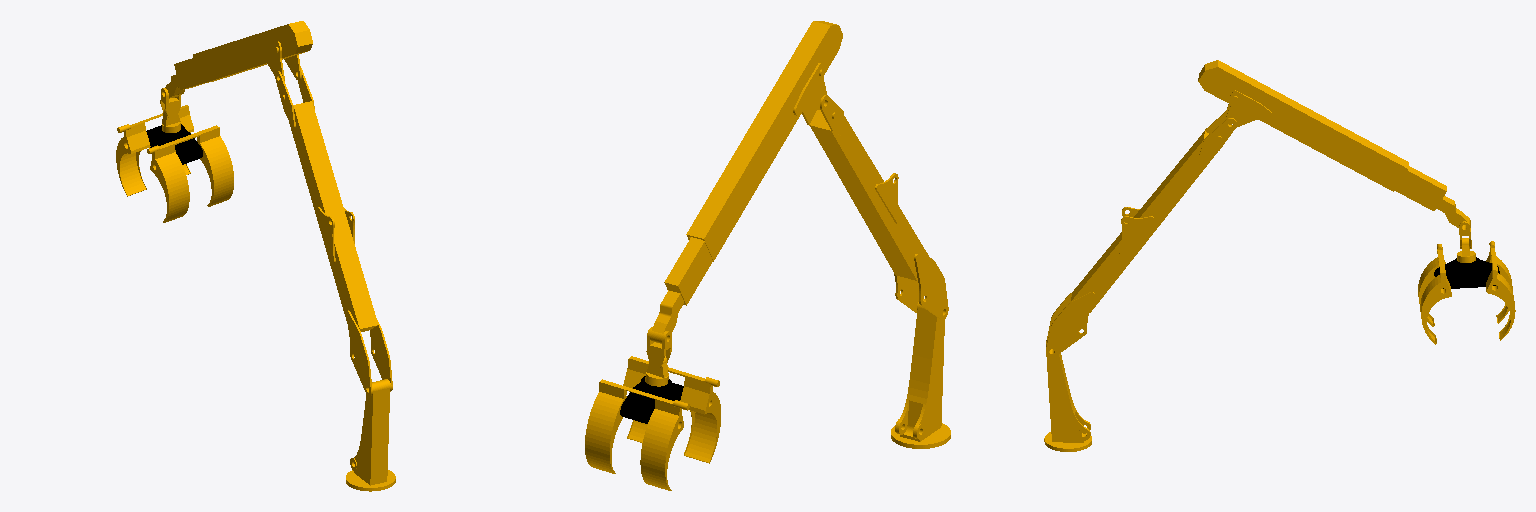
The robot description file, URDF, robot "onshape":
<robot name="onshape">
<link name="base_link">
<visual>
<origin xyz="0 0 0" rpy="0 -0 0" />
<geometry>
<mesh filename="meshes/base_link.stl"/>
</geometry>
<material name="base_link_material">
<color rgba="0.19607843137254901689 0.43921568627450979783 0.078431372549019606755 1.0"/>
</material>
</visual>
<collision>
<origin xyz="0 0 0" rpy="0 -0 0" />
<geometry>
<mesh filename="meshes/base_link.stl"/>
</geometry>
</collision>
<inertial>
<origin xyz="-0.0038912060641234833512 0.94417835578650055606 0.70159558953869916031" rpy="0 0 0"/>
<mass value="1499.9999999999997726" />
<inertia ixx="3977.7105991589519363" ixy="2.4359446062356151508"  ixz="-0.23812520616688842567" iyy="879.4116239375675832" iyz="164.77461570684363323" izz="4496.6843394325978807" />
</inertial>
</link>

<link name="cranepillar">
<visual>
<origin xyz="6.9388939039072283776e-18 -1.9750000000000000888 1.8000000000000002665" rpy="-3.141592653589793116 -0 -3.7073143176218130391e-18" />
<geometry>
<mesh filename="meshes/cranepillar.stl"/>
</geometry>
<material name="cranepillar_material">
<color rgba="0.98039215686274505668 0.71372549019607844922 0.0039215686274509803377 1.0"/>
</material>
</visual>
<collision>
<origin xyz="6.9388939039072283776e-18 -1.9750000000000000888 1.8000000000000002665" rpy="-3.141592653589793116 -0 -3.7073143176218130391e-18" />
<geometry>
<mesh filename="meshes/cranepillar.stl"/>
</geometry>
</collision>
<inertial>
<origin xyz="6.5177737211837026014e-08 0.06999606518921241971 -0.40871146584034473426" rpy="0 0 0"/>
<mass value="158.26819918446108204" />
<inertia ixx="20.304254714215378641" ixy="3.9605699780622984006e-06"  ixz="-8.1723973262745999604e-07" iyy="19.504224403354101014" iyz="3.0542376148195296004" izz="2.5286420750194498197" />
</inertial>
</link>

<link name="cranearm">
<visual>
<origin xyz="2.1631691341646703819 2.9071014878752601263 0.10714734974687092905" rpy="1.570796326794896558 1.5707963267948961139 0" />
<geometry>
<mesh filename="meshes/cranearm.stl"/>
</geometry>
<material name="cranearm_material">
<color rgba="0.98039215686274505668 0.71372549019607844922 0.0039215686274509803377 1.0"/>
</material>
</visual>
<collision>
<origin xyz="2.1631691341646703819 2.9071014878752601263 0.10714734974687092905" rpy="1.570796326794896558 1.5707963267948961139 0" />
<geometry>
<mesh filename="meshes/cranearm.stl"/>
</geometry>
</collision>
<inertial>
<origin xyz="1.4710758781849477828 -0.83447497357367250714 0.11000015269846498411" rpy="0 0 0"/>
<mass value="171.36007144775490474" />
<inertia ixx="31.17440380926048249" ixy="53.72154790670983715"  ixz="-2.3471090234412882384e-06" iyy="103.78227622883765946" iyz="2.9687502947118911292e-06" izz="132.11938151457616186" />
</inertial>
</link>

<link name="extension_arm">
<visual>
<origin xyz="-0.088447174187276544899 -5.3839193952782471442 -0.067147349746820766958" rpy="-1.570796326794896558 -1.5707963267948796826 0" />
<geometry>
<mesh filename="meshes/extension_arm.stl"/>
</geometry>
<material name="extension_arm_material">
<color rgba="0.98039215686274505668 0.71372549019607844922 0.0039215686274509803377 1.0"/>
</material>
</visual>
<collision>
<origin xyz="-0.088447174187276544899 -5.3839193952782471442 -0.067147349746820766958" rpy="-1.570796326794896558 -1.5707963267948796826 0" />
<geometry>
<mesh filename="meshes/extension_arm.stl"/>
</geometry>
</collision>
<inertial>
<origin xyz="0.71945517939019365539 0.12523230339913293818 -0.10999999999999976463" rpy="0 0 0"/>
<mass value="132.70502483158338691" />
<inertia ixx="8.0714226307109147029" ixy="18.156198033664058045"  ixz="1.0923177693777059461e-14" iyy="63.582628627999874027" iyz="2.9882967155716166814e-14" izz="70.212133412085975692" />
</inertial>
</link>

<link name="extension">
<visual>
<origin xyz="0.097852650417088363199 5.3847096770111537722 1.5927817167852036384" rpy="1.8759826062349289622 -5.9218368801835195858e-15 2.5089115897672376043e-18" />
<geometry>
<mesh filename="meshes/extension.stl"/>
</geometry>
<material name="extension_material">
<color rgba="0.98039215686274505668 0.71372549019607844922 0.0039215686274509803377 1.0"/>
</material>
</visual>
<collision>
<origin xyz="0.097852650417088363199 5.3847096770111537722 1.5927817167852036384" rpy="1.8759826062349289622 -5.9218368801835195858e-15 2.5089115897672376043e-18" />
<geometry>
<mesh filename="meshes/extension.stl"/>
</geometry>
</collision>
<inertial>
<origin xyz="0.055000000489328113029 -0.11308667092188251502 1.1835917326395082316" rpy="0 0 0"/>
<mass value="74.483829935135773326" />
<inertia ixx="35.990982829721382075" ixy="2.8883683342325816887e-10"  ixz="4.533294245971143494e-09" iyy="35.493371181524146607" iyz="-0.96498947282822022942" izz="0.92591432257180250609" />
</inertial>
</link>

<link name="intermediatehookjnt">
<visual>
<origin xyz="1.1629408158115603911 -1.6924602990154093973 0.05999999999999999778" rpy="-1.570796326794896558 -1.570796326794896558 0" />
<geometry>
<mesh filename="meshes/intermediatehookjnt.stl"/>
</geometry>
<material name="intermediatehookjnt_material">
<color rgba="0.98039215686274505668 0.71372549019607844922 0.0039215686274509803377 1.0"/>
</material>
</visual>
<collision>
<origin xyz="1.1629408158115603911 -1.6924602990154093973 0.05999999999999999778" rpy="-1.570796326794896558 -1.570796326794896558 0" />
<geometry>
<mesh filename="meshes/intermediatehookjnt.stl"/>
</geometry>
</collision>
<inertial>
<origin xyz="7.2130032402271055899e-08 -0.12159167084693889294 0.059999999999999949207" rpy="0 0 0"/>
<mass value="6.6927523972674238806" />
<inertia ixx="0.072021619002840306378" ixy="2.6246446781981169744e-08"  ixz="-2.9497402831450690525e-19" iyy="0.032102433616367886948" iyz="-1.3138598449676532376e-21" izz="0.063250708421585463692" />
</inertial>
</link>

<link name="grapplehook">
<visual>
<origin xyz="0 1.4599999999999995204 1.1229409087543595902" rpy="1.570796326794896558 3.9031278209478159624e-18 -1.3877787807814456755e-17" />
<geometry>
<mesh filename="meshes/grapplehook.stl"/>
</geometry>
<material name="grapplehook_material">
<color rgba="0.98039215686274505668 0.71372549019607844922 0.0039215686274509803377 1.0"/>
</material>
</visual>
<collision>
<origin xyz="0 1.4599999999999995204 1.1229409087543595902" rpy="1.570796326794896558 3.9031278209478159624e-18 -1.3877787807814456755e-17" />
<geometry>
<mesh filename="meshes/grapplehook.stl"/>
</geometry>
</collision>
<inertial>
<origin xyz="-1.8348013932342325104e-17 0.11889435836171968752 -0.040000000000000257572" rpy="0 0 0"/>
<mass value="11.69137300060207707" />
<inertia ixx="0.071283575399172724452" ixy="-3.6772265021772523759e-19"  ixz="-1.1033426387914104454e-19" iyy="0.044786365951232906535" iyz="5.3726285580160428126e-19" izz="0.077427737510019634115" />
</inertial>
</link>

<link name="grapplebody">
<visual>
<origin xyz="0.0028526502531289743558 -4.2941082490610078537 0.31050192853763558531" rpy="-0.83507352101469434213 8.7430063189231077558e-16 7.8062556418956319249e-18" />
<geometry>
<mesh filename="meshes/grapplebody.stl"/>
</geometry>
<material name="grapplebody_material">
<color rgba="0 0 0 1.0"/>
</material>
</visual>
<collision>
<origin xyz="0.0028526502531289743558 -4.2941082490610078537 0.31050192853763558531" rpy="-0.83507352101469434213 8.7430063189231077558e-16 7.8062556418956319249e-18" />
<geometry>
<mesh filename="meshes/grapplebody.stl"/>
</geometry>
</collision>
<inertial>
<origin xyz="-0.0046191934757202676026 -8.4376949871511897072e-15 -0.14258886664155778767" rpy="0 0 0"/>
<mass value="100.00000000000024158" />
<inertia ixx="2.2032827057151176398" ixy="3.0106125925577487124e-14"  ixz="-0.014403165349775932935" iyy="5.1544932520305444257" iyz="-1.6875389974302379414e-14" izz="5.922980580194753486" />
</inertial>
</link>

<link name="grappler">
<visual>
<origin xyz="0.32285265025312526177 -3.400511222977983028 -3.1245452734591512289" rpy="0.00036507366005568290049 4.3107878378023666157e-16 0" />
<geometry>
<mesh filename="meshes/grappler.stl"/>
</geometry>
<material name="grappler_material">
<color rgba="0.98039215686274505668 0.71372549019607844922 0.0039215686274509803377 1.0"/>
</material>
</visual>
<collision>
<origin xyz="0.32285265025312526177 -3.400511222977983028 -3.1245452734591512289" rpy="0.00036507366005568290049 4.3107878378023666157e-16 0" />
<geometry>
<mesh filename="meshes/grappler.stl"/>
</geometry>
</collision>
<inertial>
<origin xyz="-0.09470528406181727421 0.096639041820777996095 0.15598163605192150172" rpy="0 0 0"/>
<mass value="40.000000000000156319" />
<inertia ixx="5.3423877759080875549" ixy="0.72179632350094391491"  ixz="-0.025060421574980885212" iyy="3.7878510405007674855" iyz="0.073688762114945488557" izz="2.5553459620399516794" />
</inertial>
</link>

<joint name="Revolute 7" type="revolute">
<origin xyz="-0.2799999999999998046 -0.14999999999999880096 -0.17376999257947023381" rpy="-1.570796326794896558 -0.01738299423656019041 2.1340322859880885858e-15" />
<parent link="grapplebody" />
<child link="grappler" />
<axis xyz="0 0 1"/>
<limit effort="1" velocity="20" />
<joint_properties friction="0.0"/>
</joint>

<link name="grapplel">
<visual>
<origin xyz="-0.23714734974687301516 3.4005112229779799193 3.4295452734591544974" rpy="-3.1412275799297373347 -4.354155924701785807e-16 0" />
<geometry>
<mesh filename="meshes/grapplel.stl"/>
</geometry>
<material name="grapplel_material">
<color rgba="0.98039215686274505668 0.71372549019607844922 0.0039215686274509803377 1.0"/>
</material>
</visual>
<collision>
<origin xyz="-0.23714734974687301516 3.4005112229779799193 3.4295452734591544974" rpy="-3.1412275799297373347 -4.354155924701785807e-16 0" />
<geometry>
<mesh filename="meshes/grapplel.stl"/>
</geometry>
</collision>
<inertial>
<origin xyz="0.092881446788631361056 -0.092413330464415827104 0.14248893299358122988" rpy="0 0 0"/>
<mass value="39.999999999999864997" />
<inertia ixx="5.0920933844195550577" ixy="0.69460177719860105583"  ixz="-0.03092010535279316602" iyy="3.6648340684150024771" iyz="0.089352483439993607428" izz="2.3865479291955042918" />
</inertial>
</link>

<joint name="Revolute 8" type="revolute">
<origin xyz="0.2799999999999998046 0.14999999999999447109 -0.17376999257946668109" rpy="1.570796326794896558 0.1453176319688674889 -5.4857699884642518994e-15" />
<parent link="grapplebody" />
<child link="grapplel" />
<axis xyz="0 0 1"/>
<limit effort="1" velocity="20" />
<joint_properties friction="0.0"/>
</joint>

<joint name="Revolute 6" type="revolute">
<origin xyz="-7.2164496600635175128e-16 0.21499987652526941773 -0.040000000000000479616" rpy="-1.570796326794896558 -1.4928260706585001483 -3.141592653589713624" />
<parent link="grapplehook" />
<child link="grapplebody" />
<axis xyz="0 0 1"/>
<limit effort="1" velocity="20" />
<joint_properties friction="0.0"/>
</joint>

<joint name="Revolute 5" type="revolute">
<origin xyz="0.039999907057200800864 -0.23246029901541032103 0.06000000000000018513" rpy="1.5707963267948958919 -1.4892660336601413196 1.5707963267948008568" />
<parent link="intermediatehookjnt" />
<child link="grapplehook" />
<axis xyz="0 0 1"/>
<limit effort="1" velocity="20" />
<joint_properties friction="0.0"/>
</joint>

<joint name="Revolute 4" type="revolute">
<origin xyz="-0.0049999998361774135314 -0.00046421498846971331886 2.3755713282784665097" rpy="-1.570796326794896336 -0.99949757892231594347 -1.570796326794916542" />
<parent link="extension" />
<child link="intermediatehookjnt" />
<axis xyz="0 0 1"/>
<limit effort="1" velocity="20" />
<joint_properties friction="0.0"/>
</joint>

<joint name="Slider 1" type="prismatic">
<origin xyz="0.48354750494674036965 0.065746132359925546496 -0.18000000000000249134" rpy="2.836406374149756271 -1.5707963267948803487 0" />
<parent link="extension_arm" />
<child link="extension" />
<axis xyz="0 0 1"/>
<limit effort="1" velocity="20" lower="-1.5" upper="0"/>
<joint_properties friction="0.0"/>
</joint>

<joint name="Revolute 3" type="revolute">
<origin xyz="2.969203948016692074 -1.5997177007333576171 -5.5511151231257827021e-17" rpy="3.1415926535897926719 2.2650148053525044887e-15 0.68079060692433990276" />
<parent link="cranearm" />
<child link="extension_arm" />
<axis xyz="0 0 1"/>
<limit effort="1" velocity="20" />
<joint_properties friction="0.0"/>
</joint>

<joint name="Revolute 2" type="revolute">
<origin xyz="0.10999999999999995892 0.17500000000000093259 -1.1000000000000005329" rpy="1.570796326794896558 0.4623144811446134872 -1.5707963267948954478" />
<parent link="cranepillar" />
<child link="cranearm" />
<axis xyz="0 0 1"/>
<limit effort="1" velocity="20" />
<joint_properties friction="0.0"/>
</joint>

<joint name="Revolute 1" type="revolute">
<origin xyz="-0.002852650253180433193 -1.9808771680306496155 1.7659041313870400547" rpy="3.1412277245322228758 -1.027424970081609518e-05 -0.028146664935383040179" />
<parent link="base_link" />
<child link="cranepillar" />
<axis xyz="0 0 1"/>
<limit effort="1" velocity="20" />
<joint_properties friction="0.0"/>
</joint>


</robot>

--- Facts derived from the render (not from the file) ---
The picture shows the robot from 3 angles, left to right: view 1: azimuth 30°, elevation 25°; view 2: azimuth 150°, elevation 25°; view 3: azimuth 270°, elevation 25°; orthographic projection.
Model onshape with 10 links and 9 joints (8 revolute, 1 prismatic), rooted at base_link, posed all joints at 0.
Visible links, largest first — view 1: cranearm, extension_arm, grappler, cranepillar, grapplel, grapplebody, extension; view 2: extension_arm, cranearm, grapplel, cranepillar, grappler, extension, grapplebody, intermediatehookjnt; view 3: extension_arm, cranearm, cranepillar, extension, grappler, grapplel, grapplebody.
Boxes of the visible links, bbox=[...] form: cranearm: bbox=[275, 68, 392, 395]; extension_arm: bbox=[193, 21, 312, 83]; grappler: bbox=[147, 125, 233, 222]; cranepillar: bbox=[346, 379, 395, 491]; grapplel: bbox=[116, 105, 193, 196]; grapplebody: bbox=[146, 124, 202, 164]; extension: bbox=[165, 58, 201, 98]; extension_arm: bbox=[686, 21, 842, 261]; cranearm: bbox=[802, 95, 948, 319]; grapplel: bbox=[585, 379, 689, 490]; cranepillar: bbox=[891, 299, 950, 448]; grappler: bbox=[623, 356, 720, 463]; extension: bbox=[650, 237, 712, 343]; grapplebody: bbox=[620, 376, 683, 423]; intermediatehookjnt: bbox=[646, 327, 671, 369]; extension_arm: bbox=[1198, 60, 1408, 191]; cranearm: bbox=[1046, 111, 1236, 357]; cranepillar: bbox=[1044, 340, 1091, 451]; extension: bbox=[1395, 166, 1470, 228]; grappler: bbox=[1418, 244, 1451, 344]; grapplel: bbox=[1486, 241, 1515, 340]; grapplebody: bbox=[1434, 257, 1499, 288].
Bounding box of the posed robot: 0.9607 × 5.12 × 4.57 m (x, y, z).
9 mesh visuals loaded from 10 distinct referenced files (9 binary STL); not drawn: 1 (reference not matched to a file when rendering).